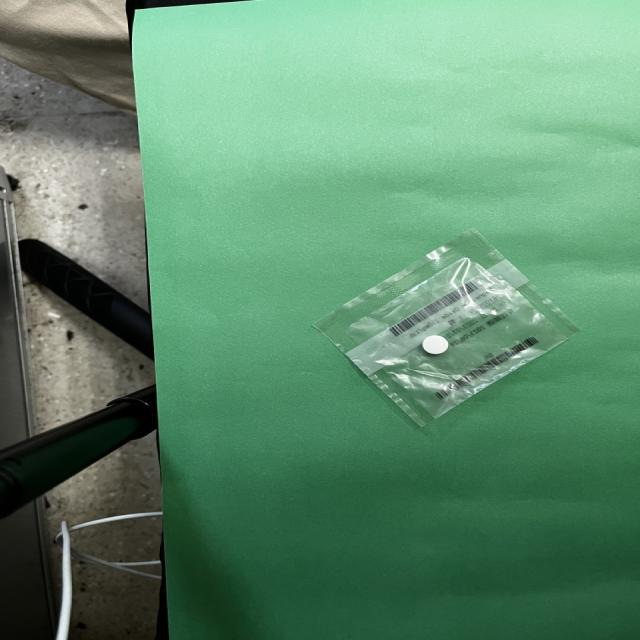Other Objects: (314, 231, 577, 427)
